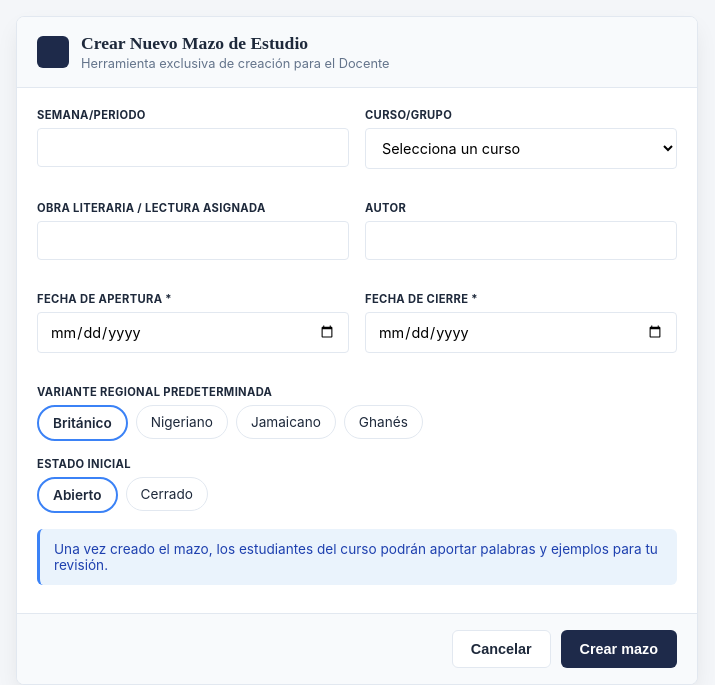
Test: CrearMazoForm › muestra un error si se envía sin completar los campos obligatorios
The image size is (715, 685).
Click the button "Crear mazo": click(619, 649) [561,630,677,668]
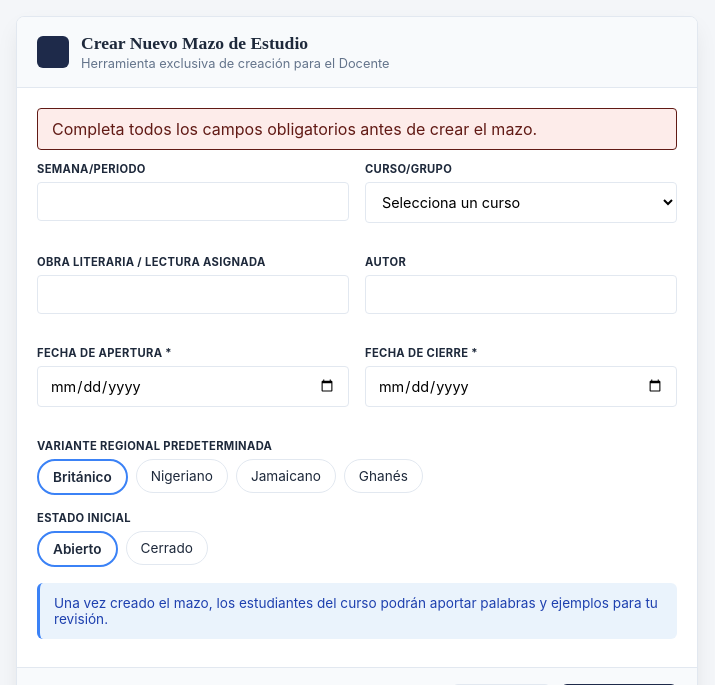
Now the message shows "Completa todos los campos", box [52,119,537,139]
